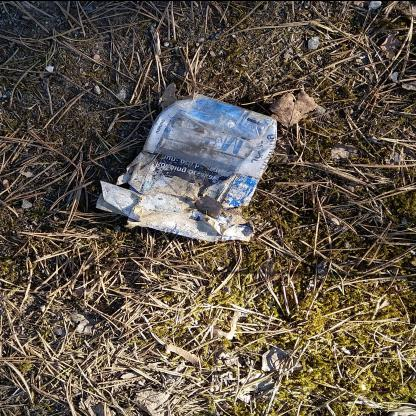karton: (94, 94, 280, 242)
